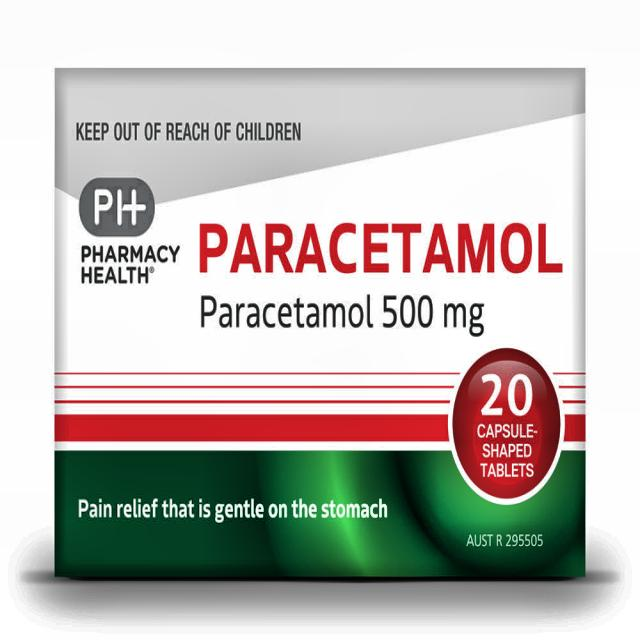Paracetamol: (197, 210, 568, 343)
